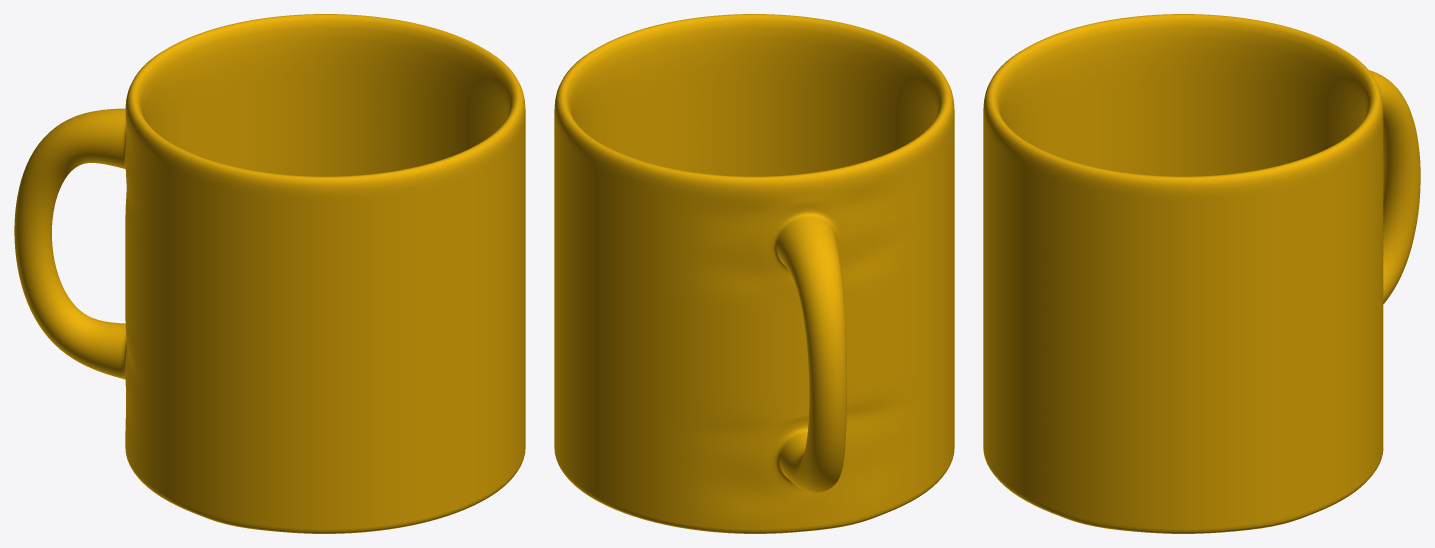
The model's file is taza-f2.glb.
The picture shows the model from 3 angles, left to right: view 1: azimuth 30°, elevation 25°; view 2: azimuth 150°, elevation 25°; view 3: azimuth 270°, elevation 25°; orthographic projection.
Visible parts, largest first — view 1: pCylinder1; view 2: pCylinder1; view 3: pCylinder1.
Part boxes in pixels (left/top/right/bottom): pCylinder1: left=14, top=14, right=525, bottom=533; pCylinder1: left=554, top=14, right=954, bottom=533; pCylinder1: left=983, top=14, right=1420, bottom=533.
Size of the model in its own units: 2.34 by 2.16 by 2.38.
